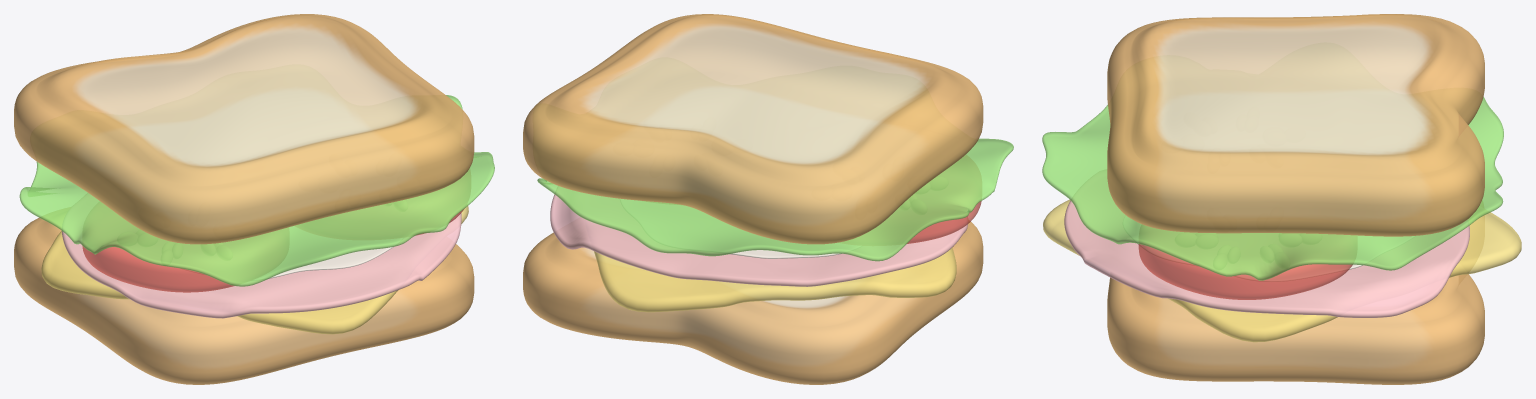
Rendered from sandwich.glb.
3 renders of one model, left to right at view 1: azimuth 30°, elevation 25°; view 2: azimuth 150°, elevation 25°; view 3: azimuth 270°, elevation 25°, orthographic. The views are drawn at different scales.
Parts seen in each view (by area): view 1: BREAD_TOP, BREAD_BOTTOM, LETTUCE, HAM, CHEESE, TOMATO_01, SAUCE_CREAM; view 2: BREAD_TOP, BREAD_BOTTOM, LETTUCE, HAM, CHEESE, SAUCE_CREAM, TOMATO_01; view 3: BREAD_TOP, BREAD_BOTTOM, HAM, LETTUCE, TOMATO_02, CHEESE, SAUCE_CREAM.
Part boxes in pixels (x1,y1,x2,y2): BREAD_TOP: (14,14,474,244); BREAD_BOTTOM: (14,207,474,384); LETTUCE: (19,95,494,286); HAM: (62,194,461,318); CHEESE: (41,206,468,334); TOMATO_01: (82,230,234,292); SAUCE_CREAM: (183,226,402,279); BREAD_TOP: (523,14,983,244); BREAD_BOTTOM: (523,220,983,384); LETTUCE: (537,138,1013,261); HAM: (550,186,967,286); CHEESE: (594,247,956,312); SAUCE_CREAM: (620,199,860,258); TOMATO_01: (899,176,981,243); BREAD_TOP: (1107,14,1484,236); BREAD_BOTTOM: (1107,201,1484,384); HAM: (1064,170,1469,317); LETTUCE: (1042,97,1503,280); TOMATO_02: (1138,233,1352,299); CHEESE: (1043,199,1521,342); SAUCE_CREAM: (1123,216,1414,281).
Bounding box in the file's own units: 1.4 × 0.6498 × 1.27.
